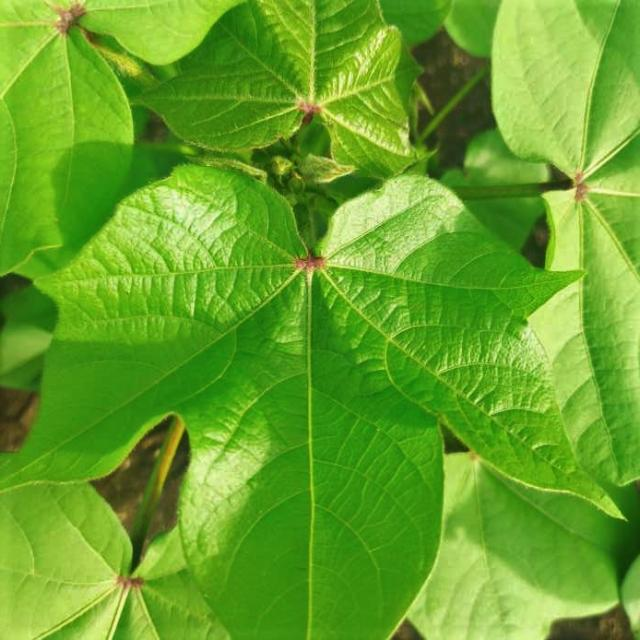Healthy Leaf: (108, 18, 618, 560)
